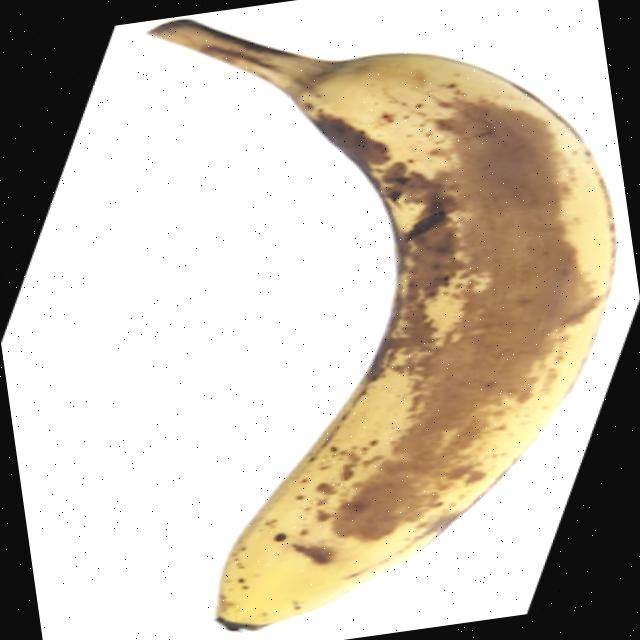overripe: (126, 0, 640, 639)
